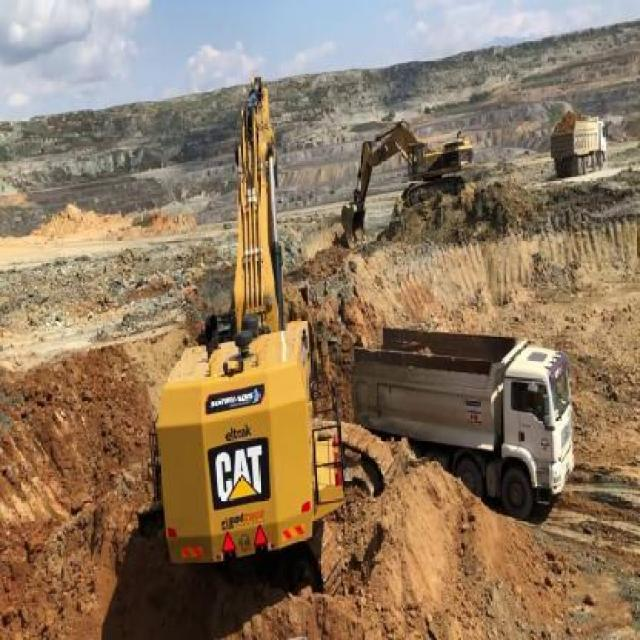Dump Truck: (349, 324, 577, 518), (549, 106, 609, 174)
Excavator: (150, 73, 385, 590), (338, 117, 472, 248)
